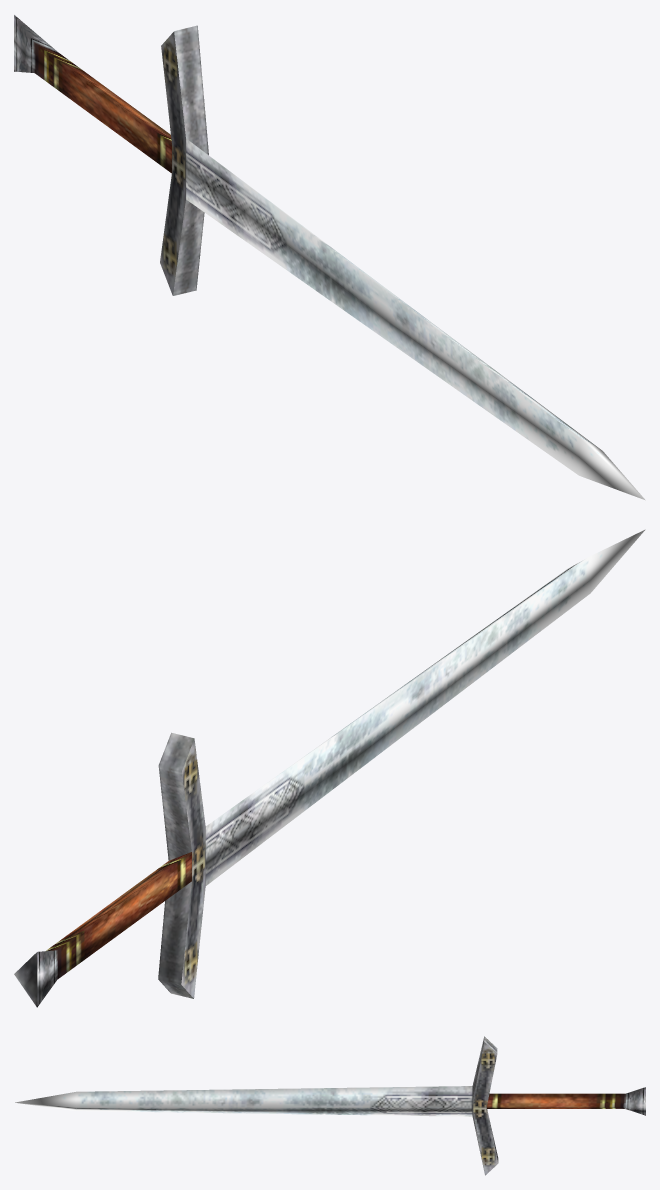
Rendered from wp_sword11.glb.
3 views of the same model, one above another, from view 1: azimuth 30°, elevation 25°; view 2: azimuth 150°, elevation 25°; view 3: azimuth 270°, elevation 25° (orthographic). The views are drawn at different scales.
Parts seen in each view (by area): view 1: wp_sword11-col; view 2: wp_sword11-col; view 3: wp_sword11-col.
Part boxes in pixels (box(x1,y1,x2,y2)): wp_sword11-col: box(14, 15, 645, 500); wp_sword11-col: box(14, 529, 645, 1007); wp_sword11-col: box(15, 1036, 645, 1175).
Bounding box in the file's own units: 0.0276 × 0.2881 × 1.23.
1 material, 1 textured.
